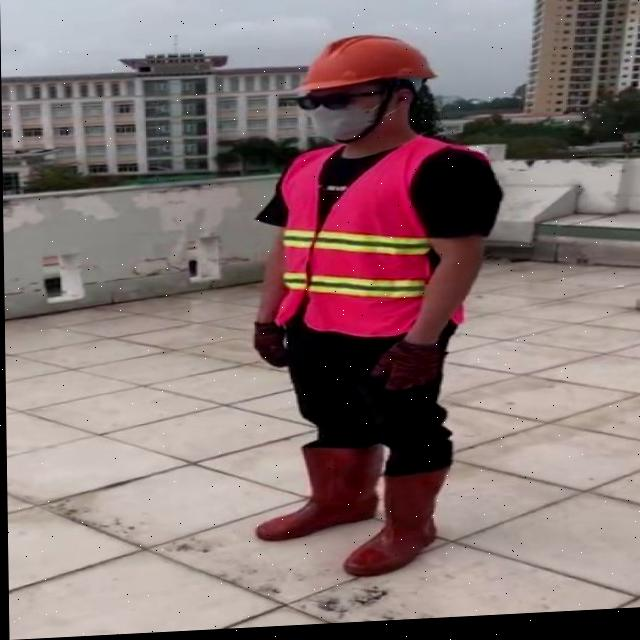Gloves: (367, 339, 443, 397), (251, 322, 288, 372)
Helmet: (290, 35, 438, 100)
Safety-Boot: (252, 440, 384, 544), (339, 467, 448, 580)
Safety-Vest: (262, 137, 491, 347)
